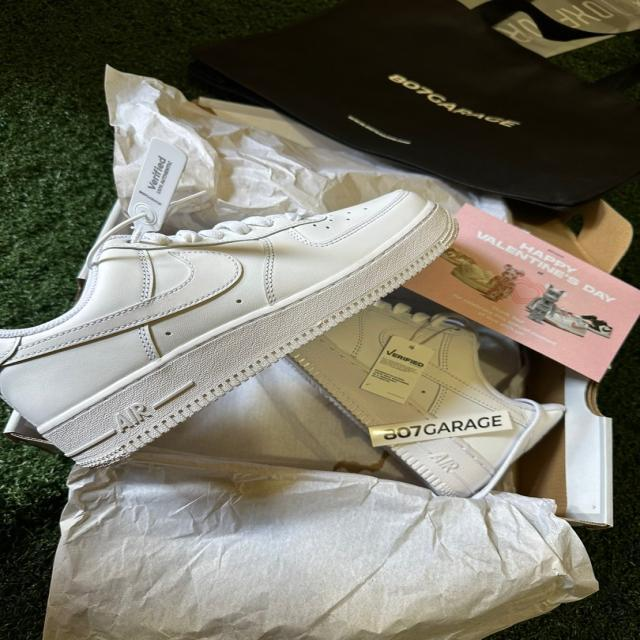nike original air force: (0, 188, 463, 469)
